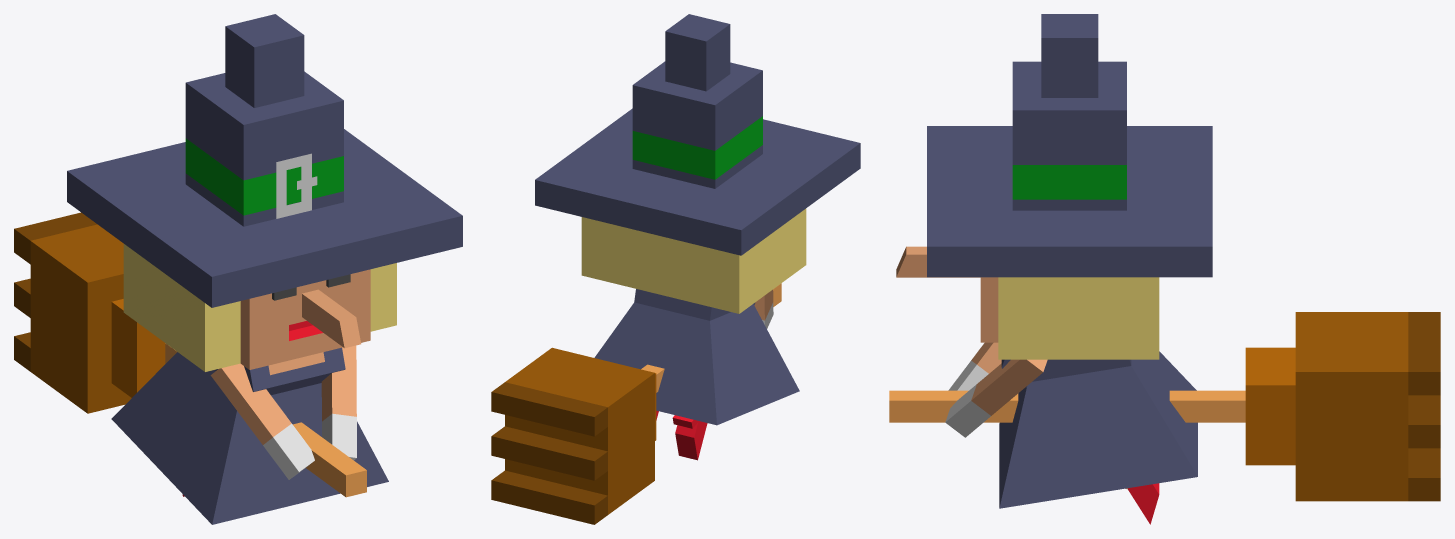
File: Ch_47@Down.FBX
3 renders of one model, left to right at view 1: azimuth 30°, elevation 25°; view 2: azimuth 150°, elevation 25°; view 3: azimuth 270°, elevation 25°, orthographic. The views are drawn at different scales.
Visible parts, largest first — view 1: Ch_47_Head, Ch_47_Broom, Ch_47, Ch_47_Hand_L, Ch_47_Hand_R, Ch_47_Chest; view 2: Ch_47_Head, Ch_47_Broom, Ch_47, Ch_47_Chest, Ch_47_Leg_L, Ch_47_Hand_L; view 3: Ch_47_Head, Ch_47_Broom, Ch_47, Ch_47_Hand_R, Ch_47_Chest, Ch_47_Hand_L, Ch_47_Leg_R.
Part boxes in pixels (x1,y1,x2,y2): Ch_47_Head: [67, 14, 462, 371]; Ch_47_Broom: [14, 212, 366, 497]; Ch_47: [111, 352, 388, 524]; Ch_47_Hand_L: [210, 363, 314, 479]; Ch_47_Hand_R: [321, 345, 356, 460]; Ch_47_Chest: [215, 347, 345, 395]; Ch_47_Head: [535, 14, 860, 313]; Ch_47_Broom: [491, 283, 781, 524]; Ch_47: [594, 302, 799, 425]; Ch_47_Chest: [634, 289, 755, 320]; Ch_47_Leg_L: [672, 415, 707, 460]; Ch_47_Hand_L: [754, 289, 773, 328]; Ch_47_Head: [896, 14, 1212, 359]; Ch_47_Broom: [889, 312, 1440, 501]; Ch_47: [999, 351, 1197, 508]; Ch_47_Hand_R: [945, 359, 1047, 437]; Ch_47_Chest: [1001, 359, 1131, 387]; Ch_47_Hand_L: [948, 342, 1001, 390]; Ch_47_Leg_R: [1125, 483, 1159, 524].
Bounding box in the file's own units: 6.98 × 12.92 × 13.47.
